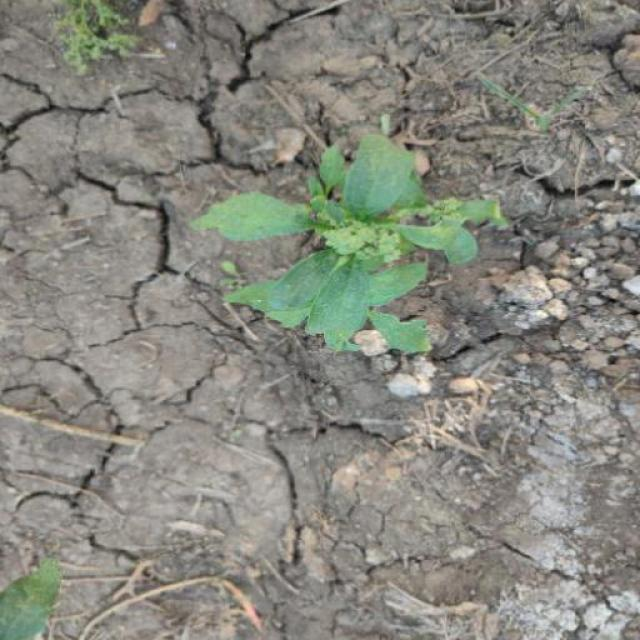weed: (183, 120, 516, 380)
